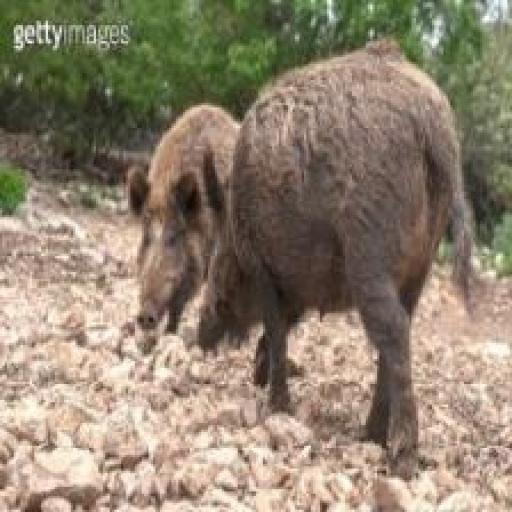Pig: (206, 39, 482, 497), (121, 89, 252, 373)
